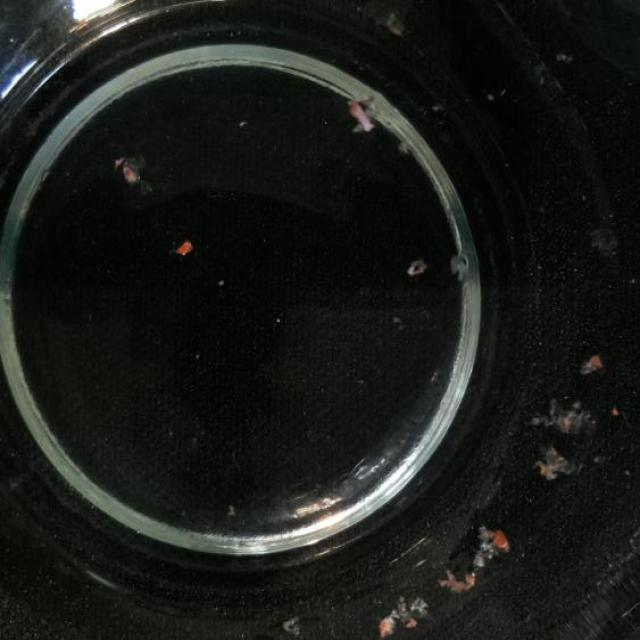fiber: (422, 517, 520, 603), (344, 590, 434, 639), (528, 393, 596, 433), (536, 441, 570, 493), (349, 93, 390, 135), (106, 143, 146, 185), (443, 244, 478, 278), (383, 0, 409, 45), (401, 256, 433, 292), (576, 346, 607, 382), (177, 232, 198, 266)
